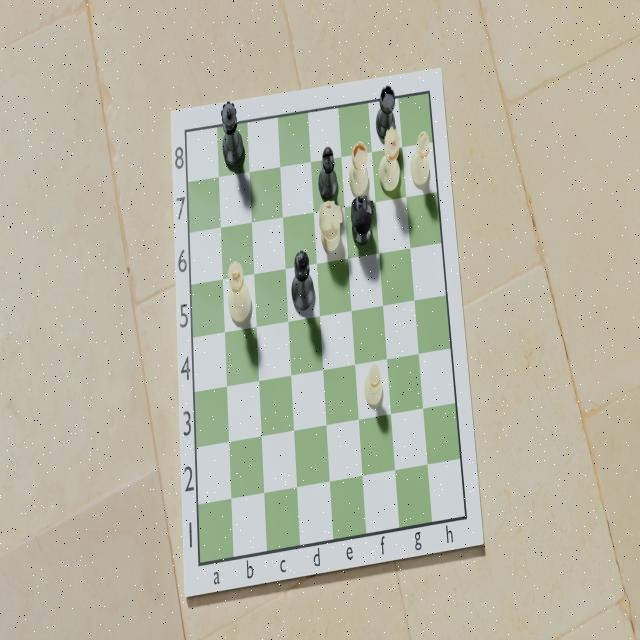black-bishop: (316, 146, 340, 202)
black-king: (288, 245, 316, 314)
black-knight: (350, 196, 374, 248)
black-queen: (219, 101, 245, 171)
black-rook: (374, 83, 398, 142)
white-bishop: (407, 129, 432, 189)
white-king: (225, 257, 254, 329)
white-knight: (315, 200, 344, 257)
white-pawn: (364, 361, 384, 411)
white-queen: (378, 127, 402, 196)
white-rook: (347, 140, 371, 200)
